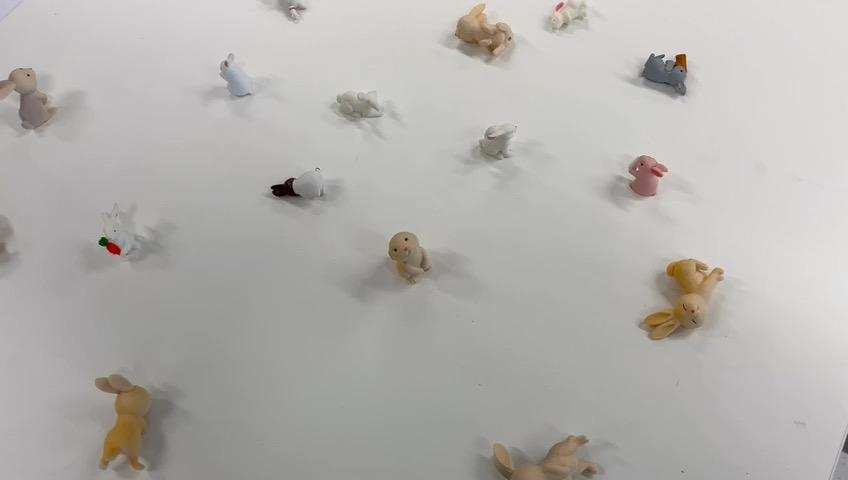pet: (78, 353, 184, 480), (636, 245, 723, 374), (356, 225, 458, 332), (91, 195, 176, 283), (463, 88, 529, 196), (6, 63, 78, 149), (481, 443, 641, 480), (448, 3, 525, 78), (636, 28, 693, 123), (626, 148, 691, 226), (333, 90, 411, 150), (273, 153, 338, 217), (258, 0, 335, 44), (193, 55, 256, 105), (543, 5, 594, 49)
